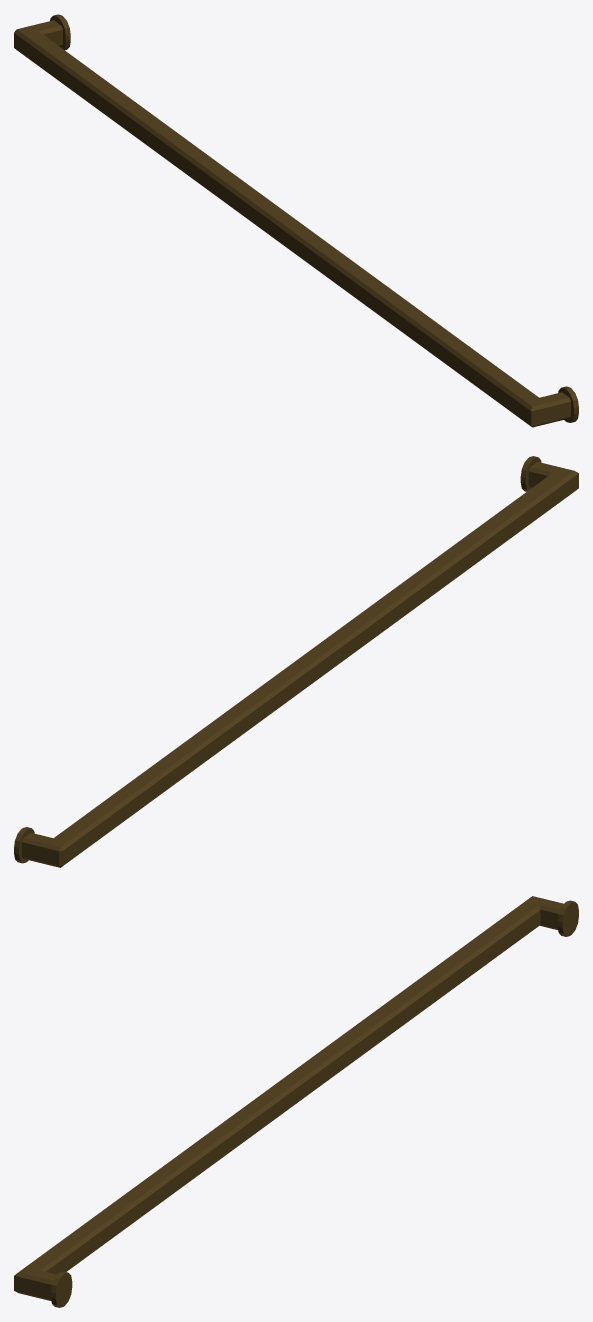
File: Hand Rail.fbx
The picture shows the model from 3 angles, top to bottom: view 1: azimuth 30°, elevation 25°; view 2: azimuth 150°, elevation 25°; view 3: azimuth 330°, elevation 25°; orthographic projection.
Visible parts, largest first — view 1: Railing.010; view 2: Railing.010; view 3: Railing.010.
Boxes of the visible parts, bbox=[...] form: Railing.010: bbox=[14, 14, 578, 427]; Railing.010: bbox=[14, 456, 578, 867]; Railing.010: bbox=[14, 896, 578, 1307].
Size of the model in its own units: 9 by 6.18 by 182.
